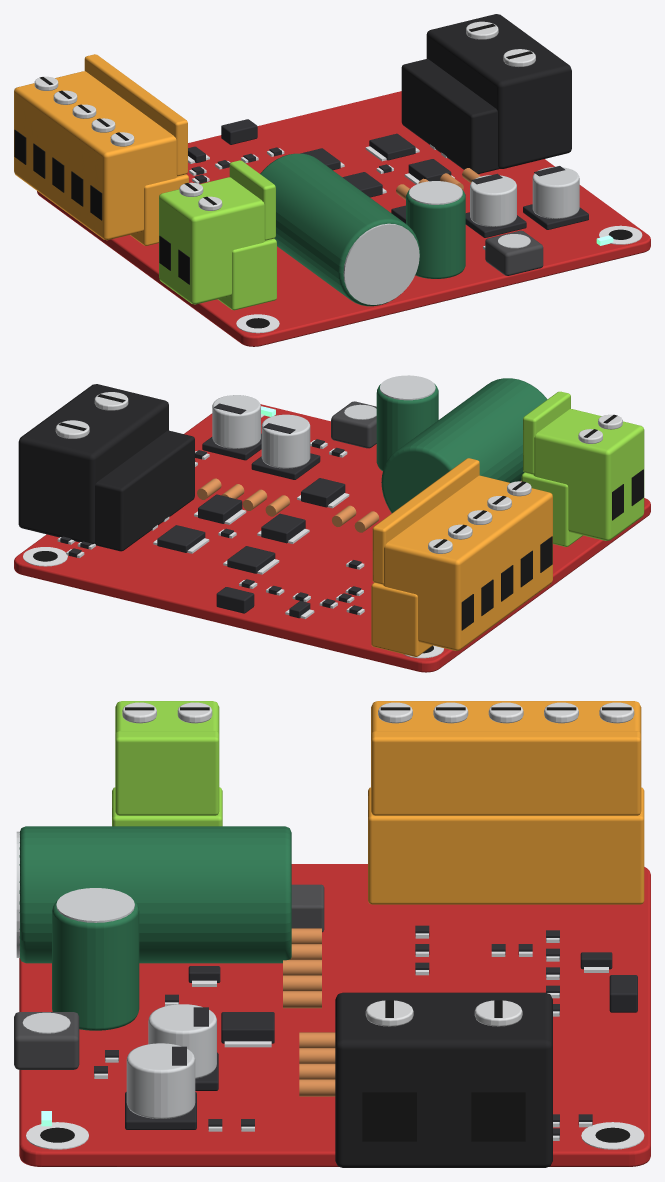
The model's file is driver-board.glb.
3 renders of one model, top to bottom at view 1: azimuth 30°, elevation 25°; view 2: azimuth 150°, elevation 25°; view 3: azimuth 270°, elevation 25°, orthographic. The views are drawn at different scales.
Visible parts, largest first — view 1: PCB, Borne_Plug, Saida, Cap_1000uF, Borne_Plug.001, Saida_Base, Cap_1000uF_Fundo, Cap_470uF, Borne_Trava, Borne_Base.001, SMD_Cap.001, SMD_Cap (+11 smaller); view 2: PCB, Borne_Plug, Saida, Cap_1000uF, Borne_Plug.001, Saida_Base, Borne_Trava, Borne_Base, Cap_470uF, SMD_Cap, SMD_Cap.001, Borne_Trava.001 (+14 smaller); view 3: PCB, Cap_1000uF, Saida, Borne_Base, Borne_Trava, Cap_470uF, Borne_Trava.001, Borne_Plug, SMD_Cap.001, SMD_Cap, Indutor, Saida_Fio (+15 smaller).
Part boxes in pixels (<box>): PCB: <box>37,91,650,346</box>; Borne_Plug: <box>14,71,177,240</box>; Saida: <box>426,14,571,168</box>; Cap_1000uF: <box>260,153,419,306</box>; Borne_Plug.001: <box>159,177,265,304</box>; Saida_Base: <box>401,59,499,174</box>; Cap_1000uF_Fundo: <box>343,223,419,304</box>; Cap_470uF: <box>406,189,465,278</box>; Borne_Trava: <box>84,54,187,176</box>; Borne_Base.001: <box>218,238,276,310</box>; SMD_Cap.001: <box>532,167,579,218</box>; SMD_Cap: <box>470,175,516,226</box>; PCB: <box>14,404,650,672</box>; Borne_Plug: <box>383,475,552,650</box>; Saida: <box>18,384,168,544</box>; Cap_1000uF: <box>381,378,547,512</box>; Borne_Plug.001: <box>533,409,644,540</box>; Saida_Base: <box>94,430,194,551</box>; Borne_Trava: <box>372,458,479,584</box>; Borne_Base: <box>371,582,432,656</box>; Cap_470uF: <box>376,383,438,471</box>; SMD_Cap: <box>261,414,310,468</box>; SMD_Cap.001: <box>212,395,260,448</box>; Borne_Trava.001: <box>523,391,570,474</box>; PCB: <box>19,864,650,1166</box>; Cap_1000uF: <box>19,826,291,963</box>; Saida: <box>335,992,552,1167</box>; Borne_Base: <box>368,787,644,904</box>; Borne_Trava: <box>371,731,641,815</box>; Cap_470uF: <box>52,900,139,1030</box>; Borne_Trava.001: <box>115,731,219,815</box>; Borne_Plug: <box>371,701,641,734</box>; SMD_Cap.001: <box>126,1043,195,1118</box>; SMD_Cap: <box>148,1004,216,1078</box>; Indutor: <box>14,1012,79,1069</box>; Saida_Fio: <box>362,1092,416,1141</box>.
Size of the model in its own units: 70.7 by 18.6 by 58.5.
